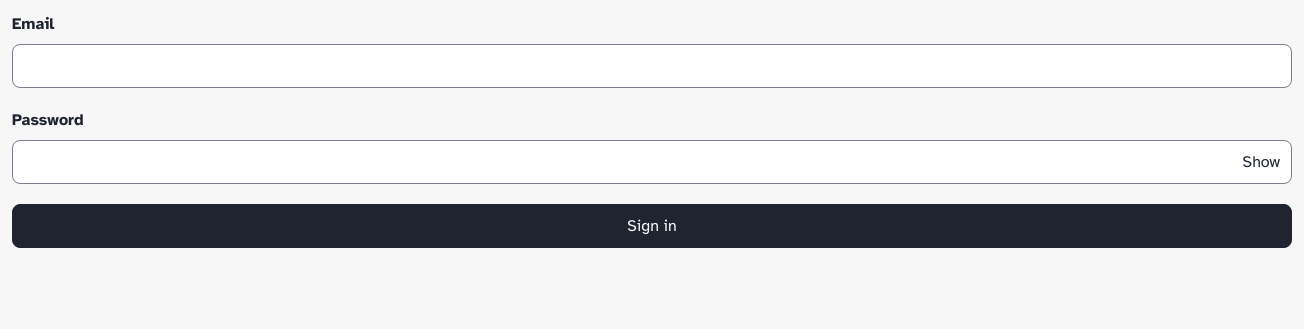
Test case: AdminLoginForm › recovers from a network failure without logging credentials
The image size is (1304, 329).
In the field labelled "Email": (652, 66) [12, 44, 1292, 88], type "admin@example.com"
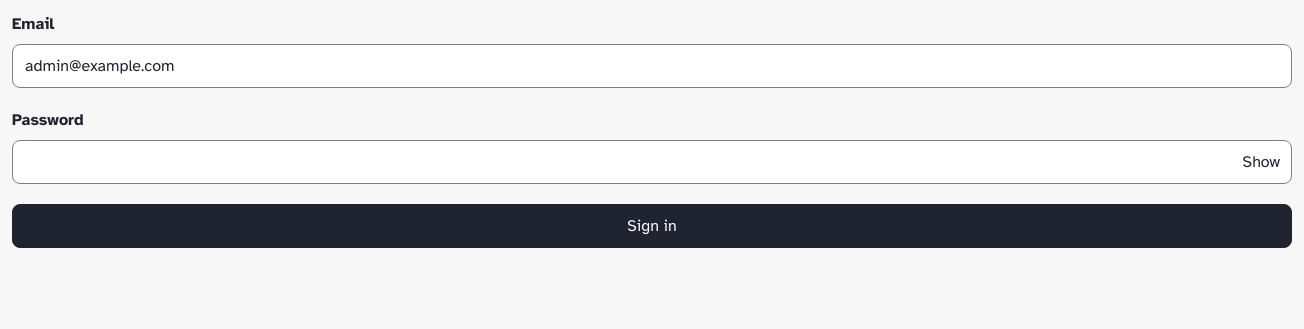
In the password field labelled "Password": (652, 162) [12, 140, 1292, 184], type "secret"
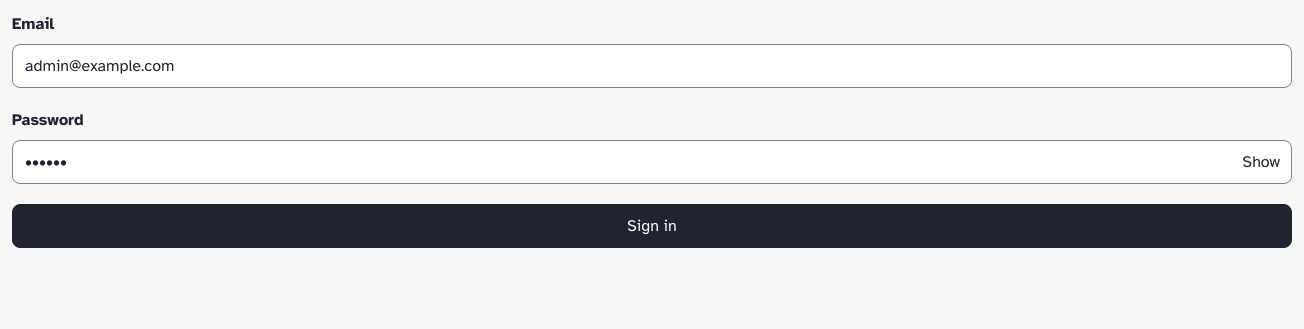
Click the button "Sign in": (652, 226) [12, 204, 1292, 248]
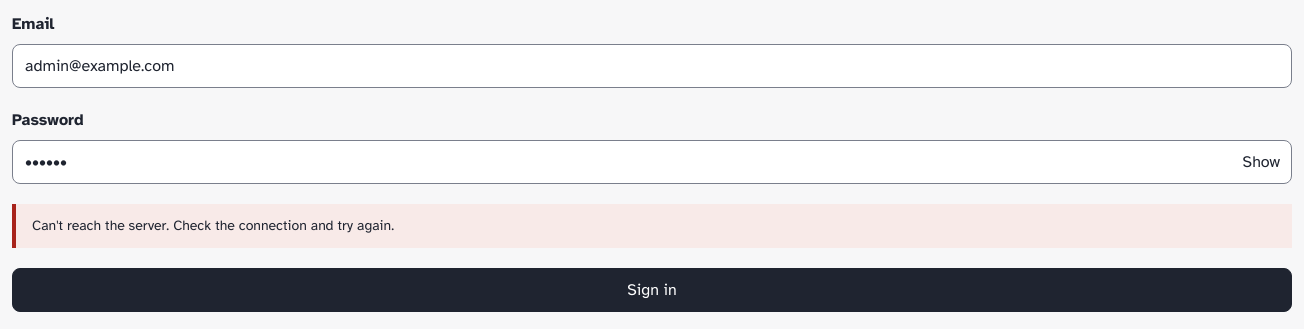
Expected: the button "Sign in" is enabled, [12, 268, 1292, 312]
Expected: the message reads "Can't reach the server. Check the connection and try again.", [32, 217, 394, 234]
